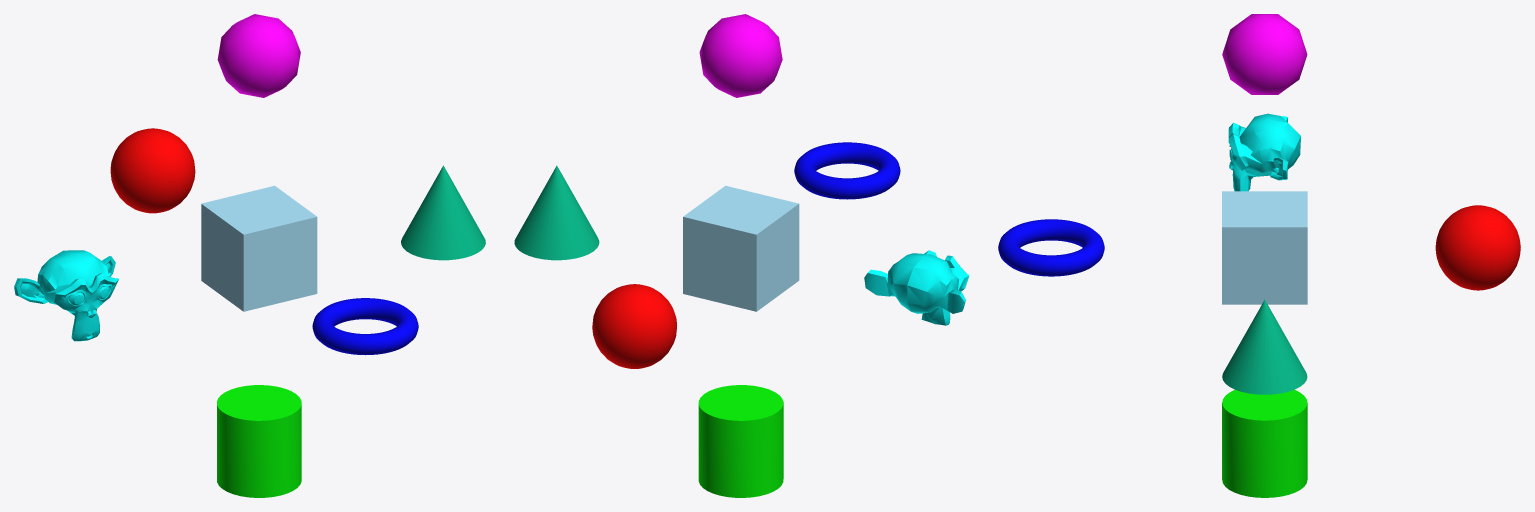
Rendered from importTest.glb.
3 views of the same model, side by side, from view 1: azimuth 30°, elevation 25°; view 2: azimuth 150°, elevation 25°; view 3: azimuth 270°, elevation 25° (orthographic).
Parts seen in each view (by area): view 1: Cube, Cylinder, Sphere, Icosphere, Suzanne, Cone, Torus; view 2: Cube, Cylinder, Sphere, Icosphere, Suzanne, Cone, Torus; view 3: Cube, Cylinder, Sphere, Icosphere, Cone, Torus, Suzanne.
Part boxes in pixels (x1=…): Cube: x1=201, y1=185, x2=317, y2=311; Cylinder: x1=217, y1=385, x2=301, y2=497; Sphere: x1=110, y1=128, x2=195, y2=213; Icosphere: x1=217, y1=14, x2=300, y2=97; Suzanne: x1=14, y1=250, x2=118, y2=341; Cone: x1=401, y1=165, x2=485, y2=260; Torus: x1=312, y1=298, x2=418, y2=355; Cube: x1=683, y1=185, x2=799, y2=311; Cylinder: x1=698, y1=385, x2=783, y2=497; Sphere: x1=592, y1=284, x2=676, y2=368; Icosphere: x1=699, y1=14, x2=782, y2=97; Suzanne: x1=864, y1=250, x2=969, y2=325; Cone: x1=514, y1=165, x2=599, y2=260; Torus: x1=794, y1=142, x2=900, y2=199; Cube: x1=1222, y1=191, x2=1307, y2=304; Cylinder: x1=1222, y1=389, x2=1307, y2=497; Sphere: x1=1435, y1=205, x2=1520, y2=290; Icosphere: x1=1222, y1=14, x2=1307, y2=94; Cone: x1=1222, y1=299, x2=1307, y2=394; Torus: x1=998, y1=219, x2=1104, y2=276; Suzanne: x1=1228, y1=113, x2=1300, y2=191.
Bounding box in the file's own units: 1 × 0.9703 × 0.9905.
